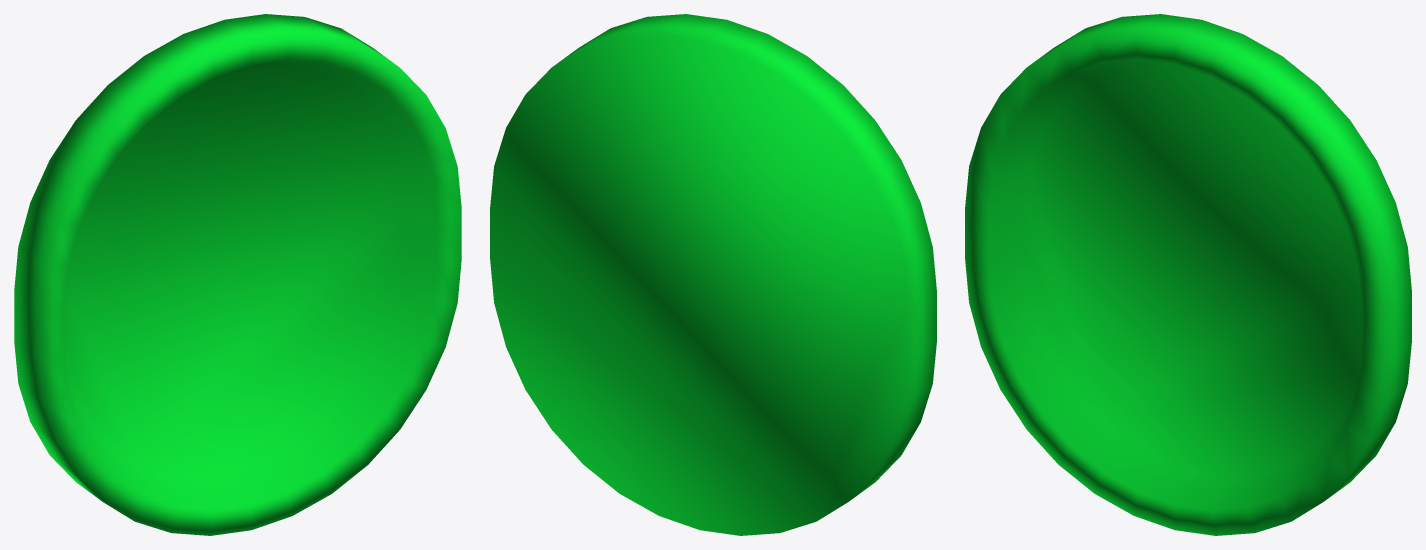
File: Mesh_FX_PortalSpawner.fbx
3 views of the same model, side by side, from view 1: azimuth 30°, elevation 25°; view 2: azimuth 150°, elevation 25°; view 3: azimuth 330°, elevation 25° (orthographic).
Parts seen in each view (by area): view 1: Mesh_FX_PortalSpawner; view 2: Mesh_FX_PortalSpawner; view 3: Mesh_FX_PortalSpawner.
Boxes of the visible parts, x1,y1,x2,y2 form: Mesh_FX_PortalSpawner: [14, 14, 461, 535]; Mesh_FX_PortalSpawner: [490, 14, 936, 535]; Mesh_FX_PortalSpawner: [965, 14, 1411, 535].
Bounding box in the file's own units: 3.48 × 3.88 × 0.3938.
